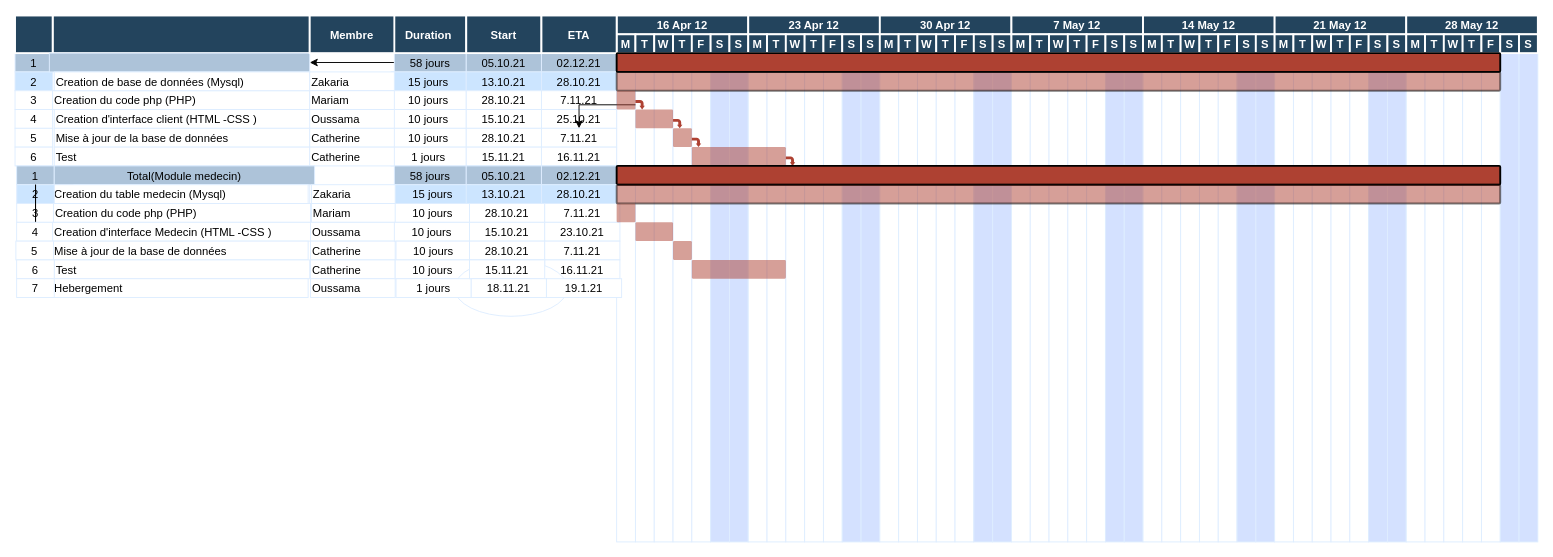
This 1553x557 diagram has some shape labels left out. Each missing label, with the centre of its shape:
Systeme de gestion des hopitaux: (180,34)
Total(Module utitlisateur): (179,62)
